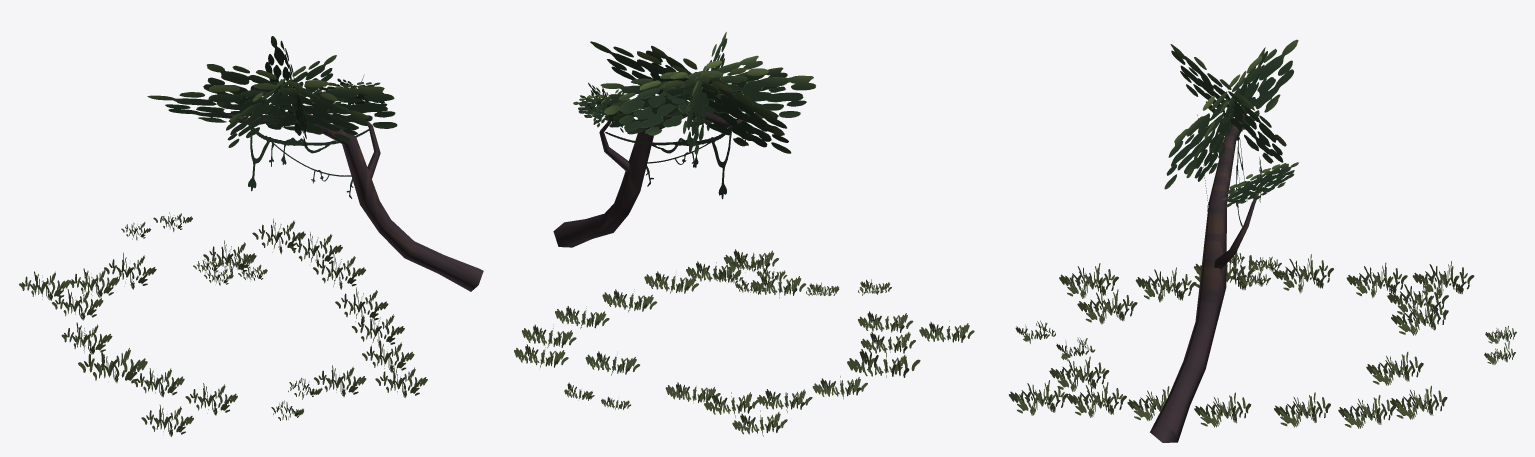
Rendered from Ciudad_piedras01.fbx.
3 views of the same model, side by side, from view 1: azimuth 30°, elevation 25°; view 2: azimuth 150°, elevation 25°; view 3: azimuth 270°, elevation 25° (orthographic). The views are drawn at different scales.
Parts seen in each view (by area): view 1: Ciudad_piedras01; view 2: Ciudad_piedras01; view 3: Ciudad_piedras01.
Boxes of the visible parts, x1=… form: Ciudad_piedras01: x1=19, y1=36, x2=483, y2=436; Ciudad_piedras01: x1=514, y1=32, x2=974, y2=436; Ciudad_piedras01: x1=1009, y1=39, x2=1516, y2=442.
Bounding box in the file's own units: 57 × 39.19 × 57.6.
